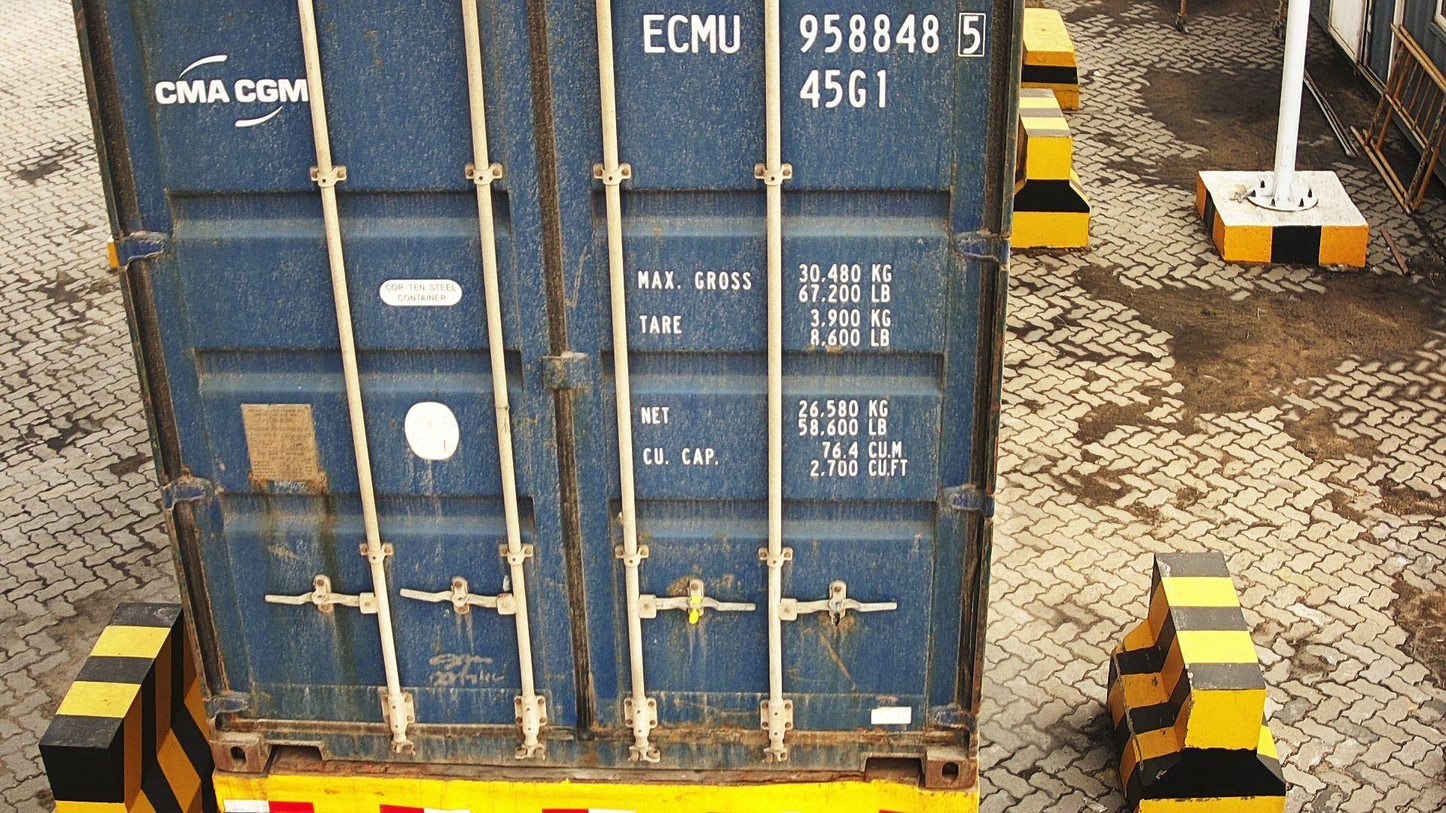container-numbers: (639, 8, 990, 59), (798, 66, 896, 114)
